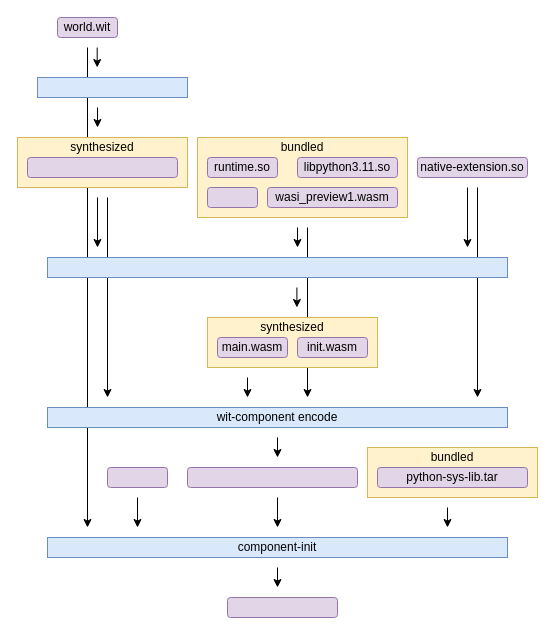
The diagram is 555 pixels wide and 635 high, and some of its shapes have lost their labels. Here are the shapes that lost their labels. From the top down, the box of each, then its label:
(36, 76, 188, 98): componentize-py bindgen
(26, 156, 178, 178): generated-lift-lower.wasm
(206, 186, 258, 208): libc.so
(46, 256, 508, 278): wit-component link
(106, 466, 168, 488): app.py
(186, 466, 358, 488): uninitialized-component.wasm
(226, 596, 338, 618): component.wasm
